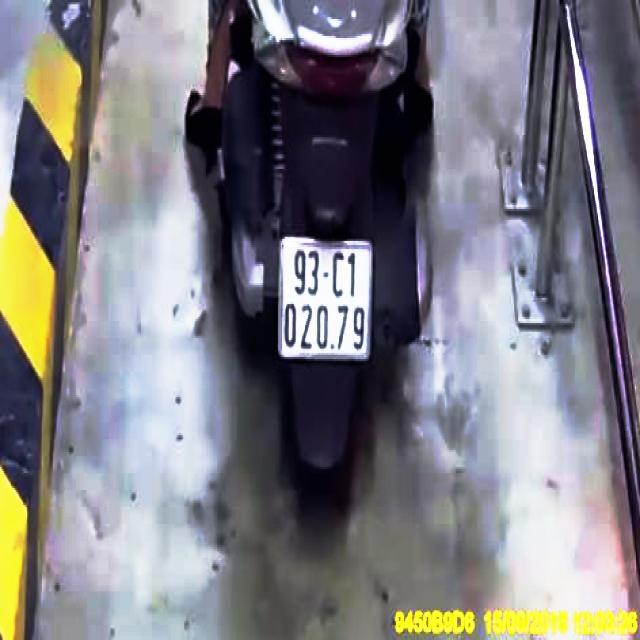license_plate: (283, 240, 373, 357)
